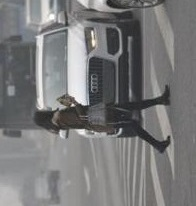person: (31, 83, 171, 154)
